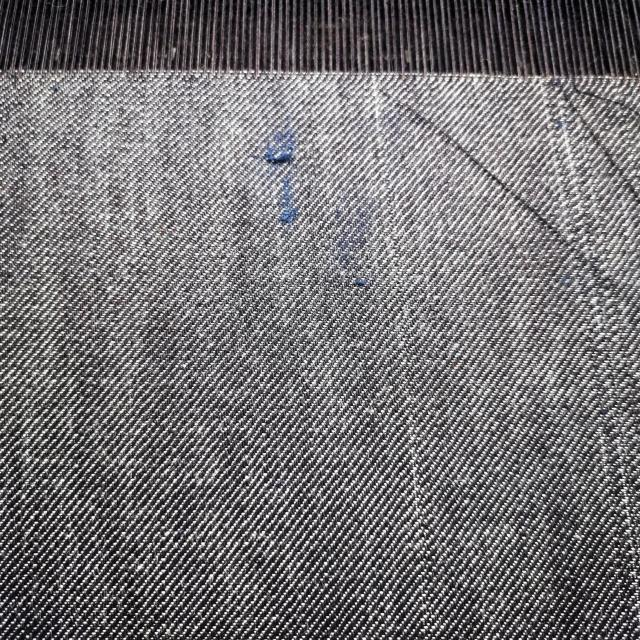defect: (378, 88, 619, 292), (550, 82, 640, 208)
